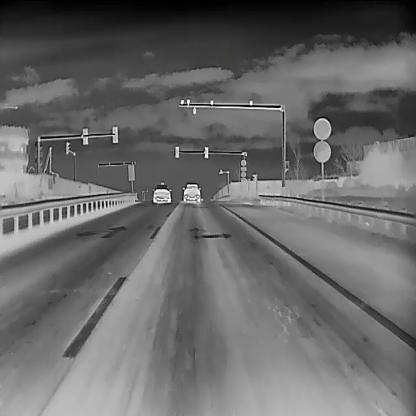car: (151, 183, 171, 203), (181, 182, 201, 202)
